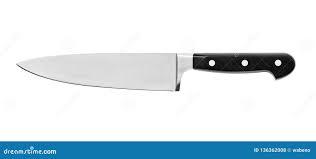Knife: (15, 51, 295, 91)
